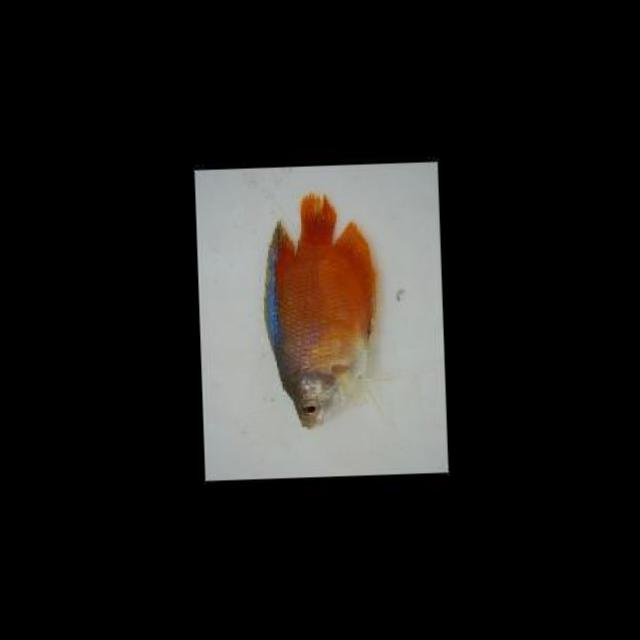Gourami: (254, 188, 388, 436)
